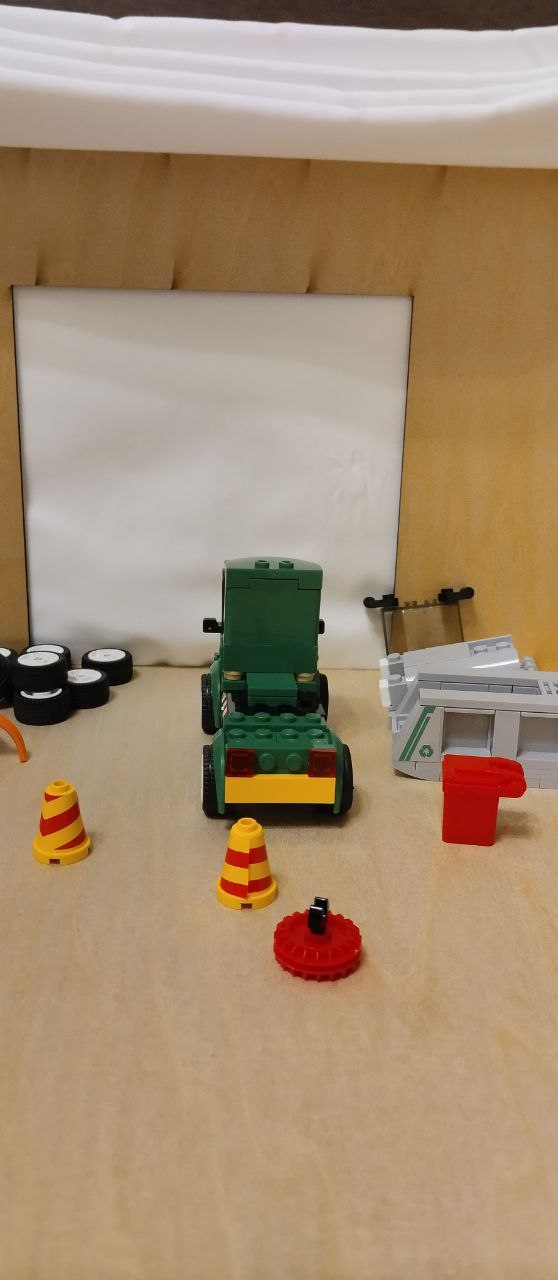Cone: (209, 813, 290, 914), (26, 776, 93, 871)
Object Red: (435, 752, 539, 852)
Truck: (198, 549, 348, 828)
